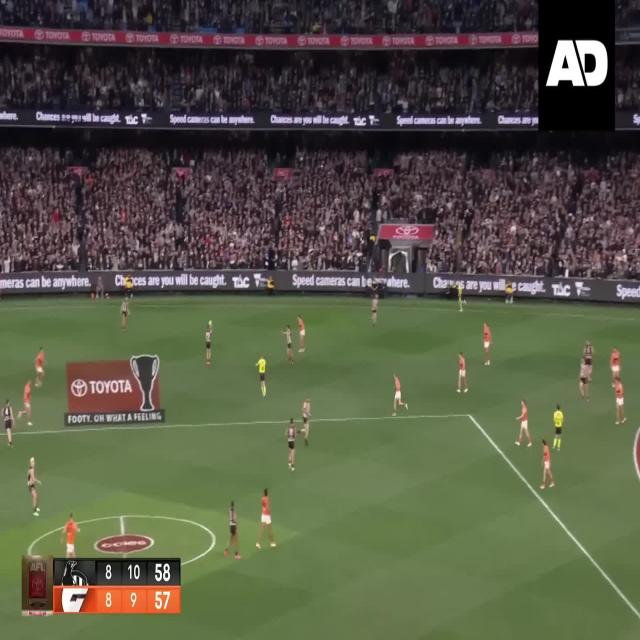crowd: (0, 141, 638, 281), (0, 40, 539, 112), (3, 0, 536, 33), (614, 53, 639, 108), (617, 2, 640, 29)
